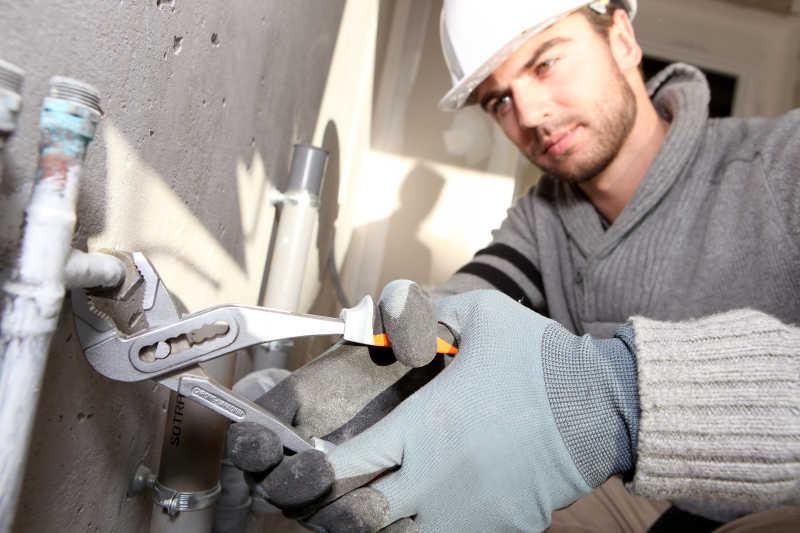helmet: (423, 1, 664, 111)
